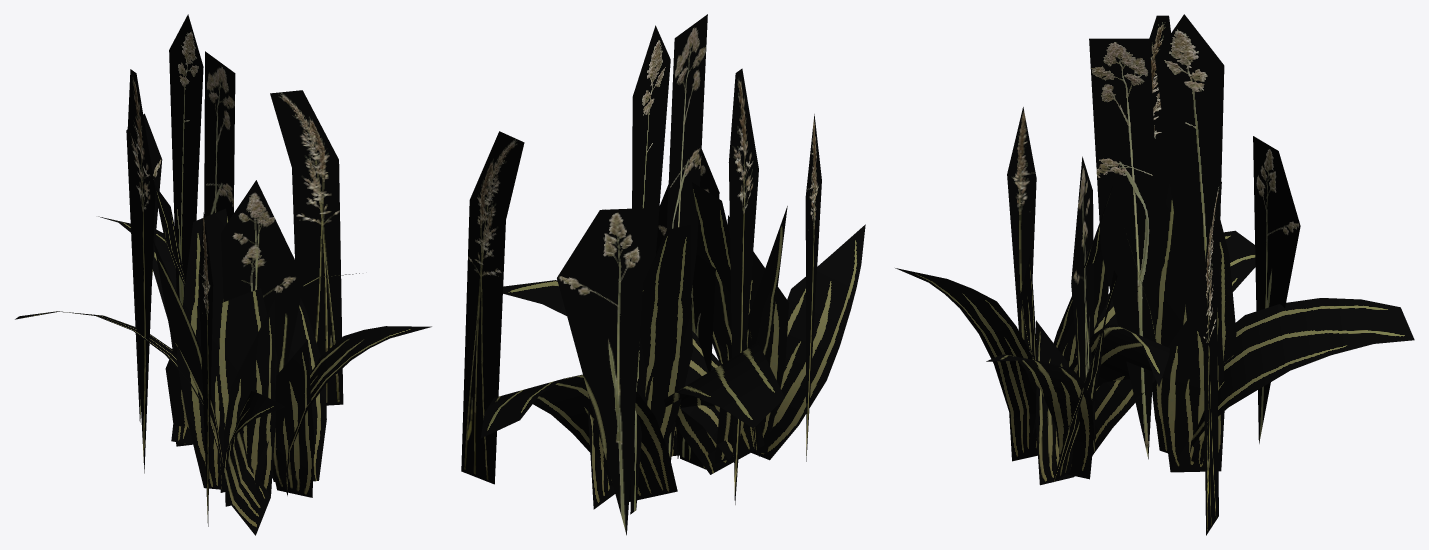
File: SM_Grass_02.fbx
3 renders of one model, left to right at view 1: azimuth 30°, elevation 25°; view 2: azimuth 150°, elevation 25°; view 3: azimuth 270°, elevation 25°, orthographic. The views are drawn at different scales.
Visible parts, largest first — view 1: SM_Grass_02; view 2: SM_Grass_02; view 3: SM_Grass_02.
Boxes of the visible parts, x1,y1,x2,y2 form: SM_Grass_02: (15,14,431,535); SM_Grass_02: (461,14,865,535); SM_Grass_02: (895,14,1414,535).
Bounding box in the file's own units: 61.24 × 88.27 × 85.38.
1 material, 1 textured.
